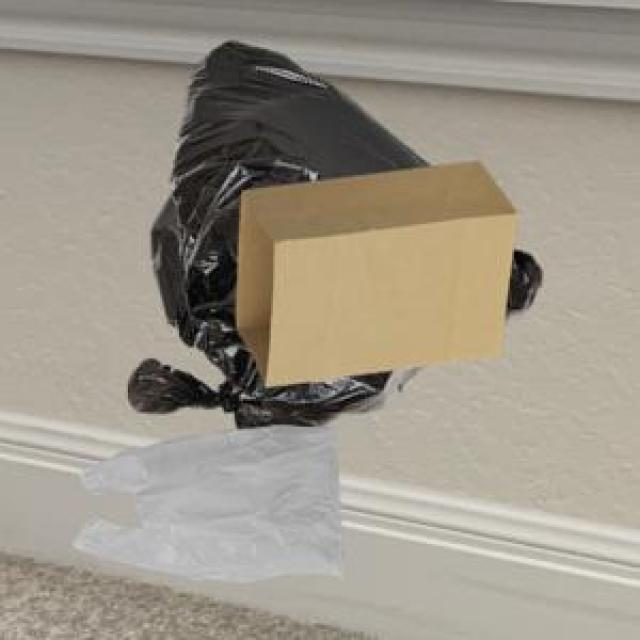miscellaneous trash: (124, 38, 538, 425)
paper: (233, 158, 512, 382)
